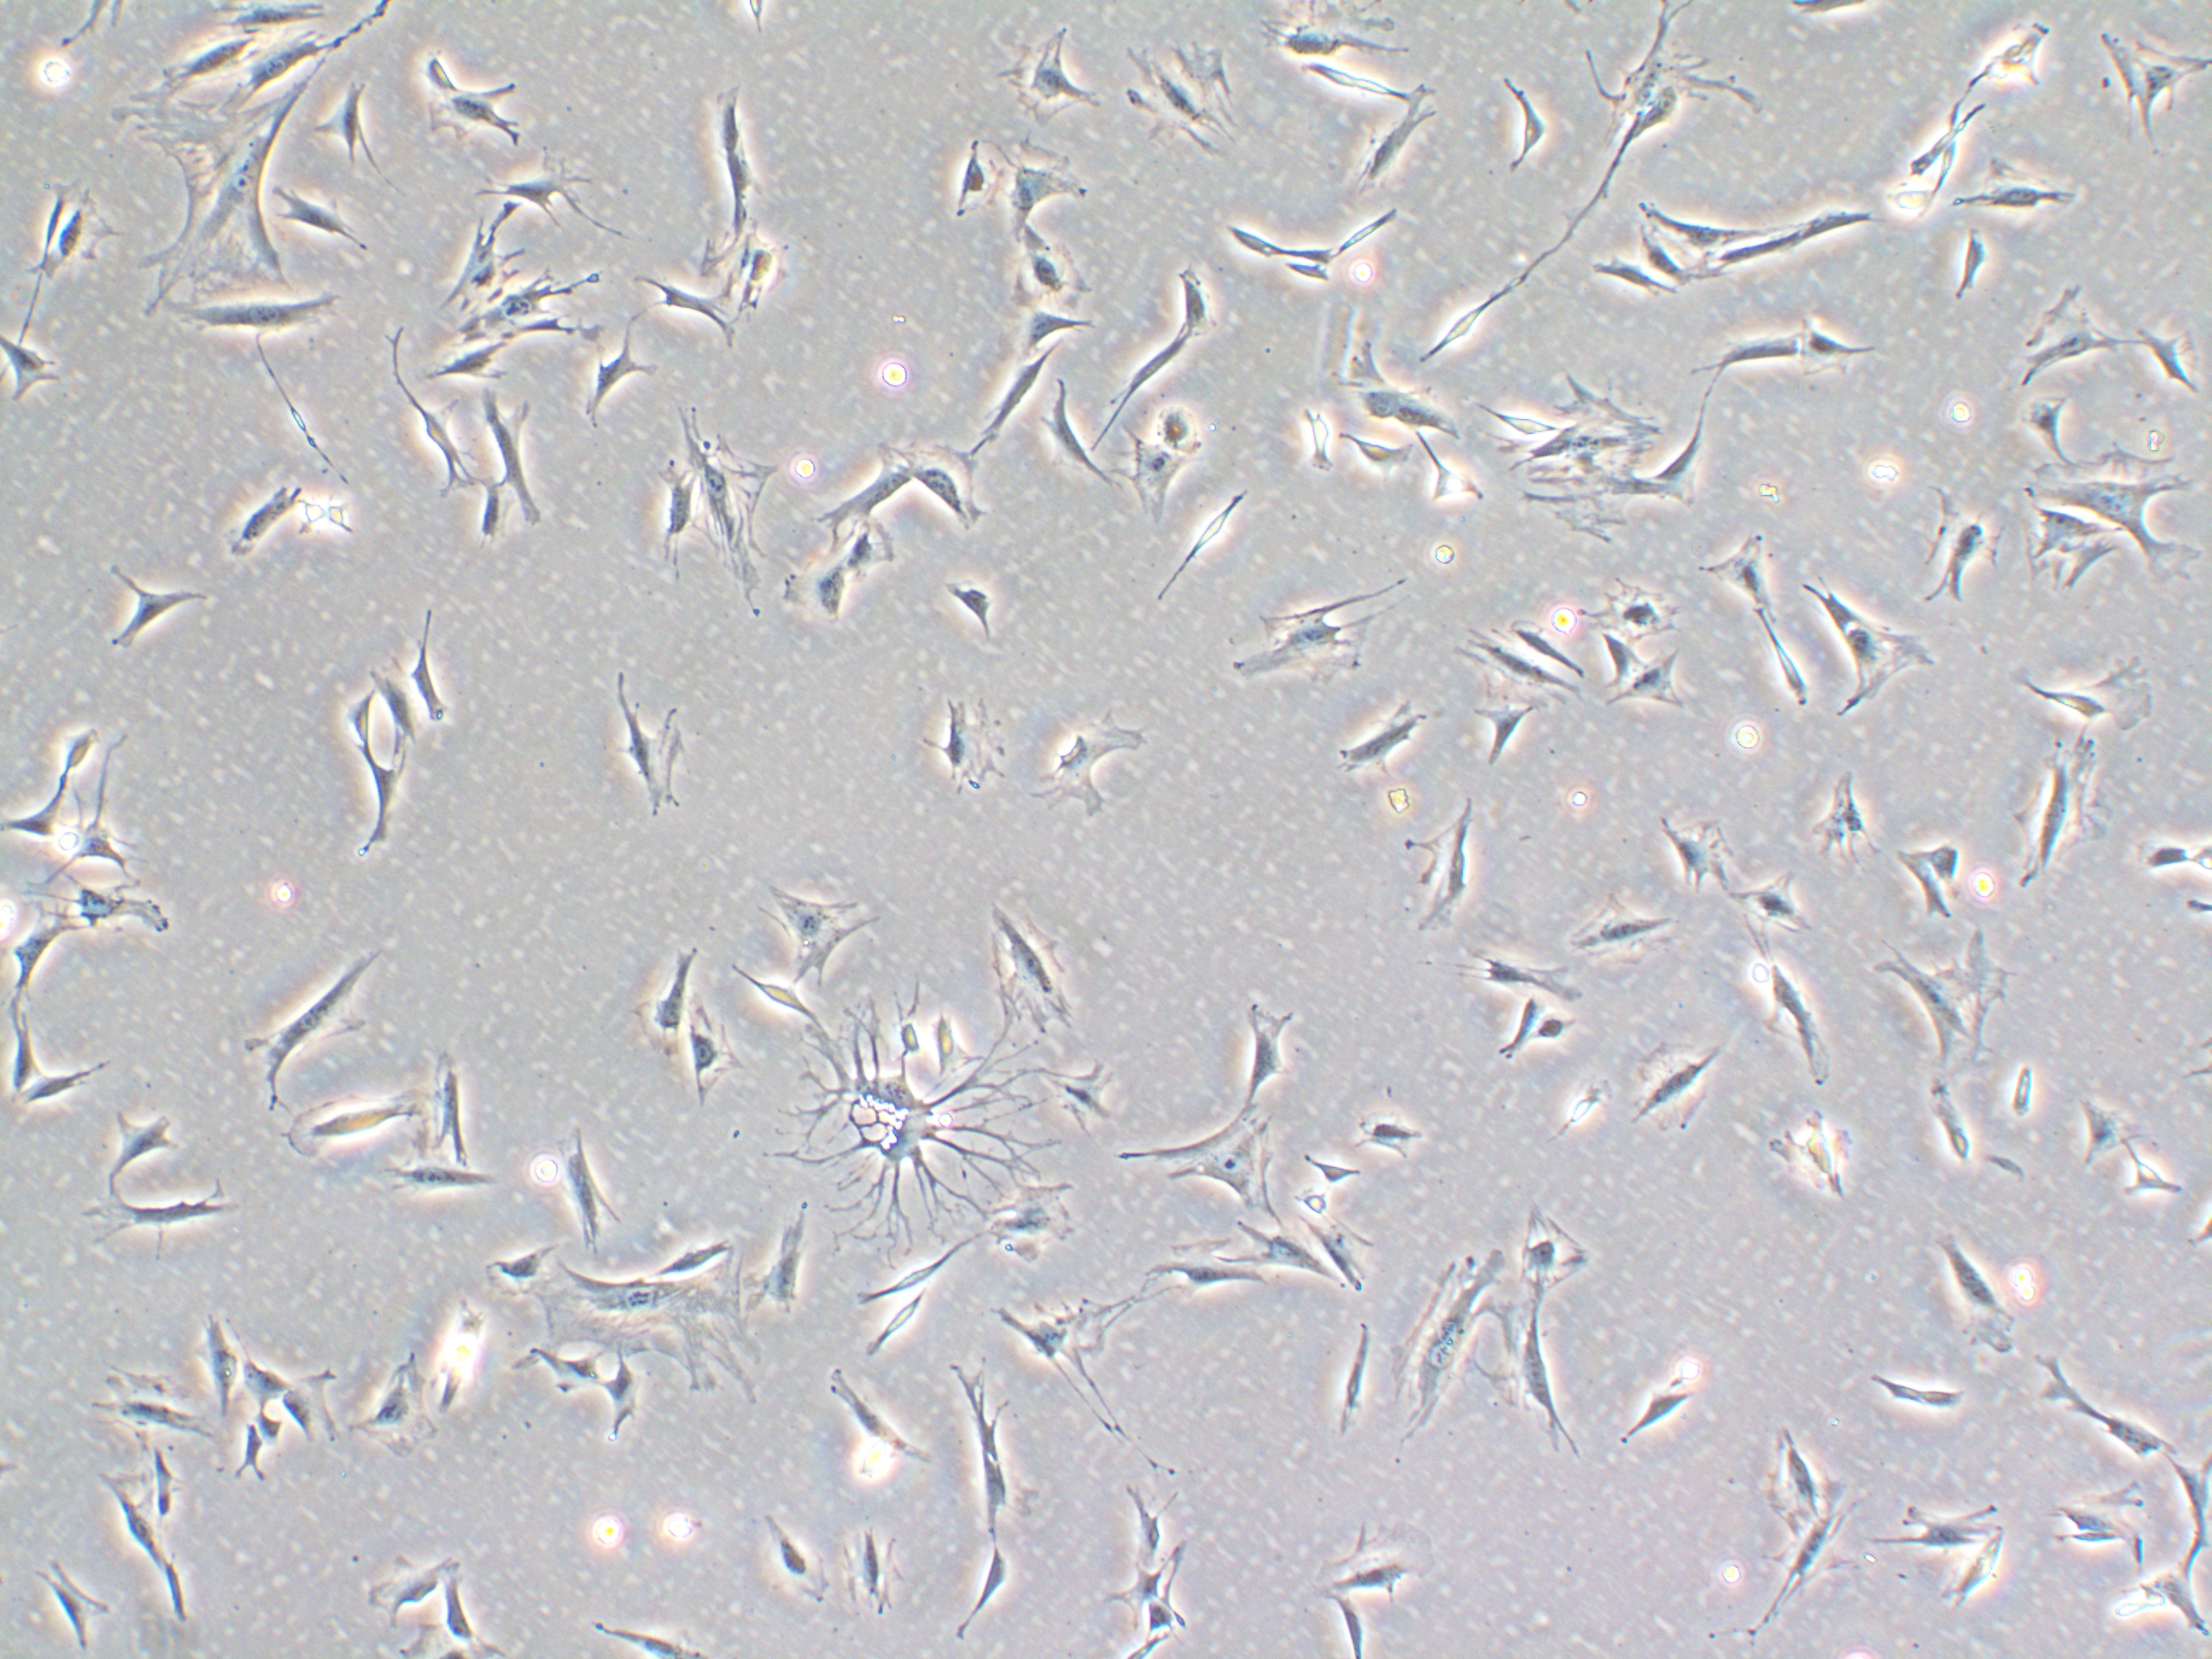Etc: (1134, 479, 1244, 617), (1402, 281, 1524, 375), (1334, 197, 1426, 265), (1468, 390, 1573, 448), (1284, 59, 1404, 101), (1217, 213, 1292, 274)
polygonal: (221, 941, 399, 1115), (1811, 568, 1947, 730), (57, 1333, 226, 1452), (1879, 932, 2012, 1079), (589, 664, 702, 826), (2008, 735, 2123, 892), (1604, 1012, 1743, 1138), (1291, 1513, 1479, 1605), (1923, 1222, 2038, 1370), (1742, 1504, 1858, 1647), (1388, 796, 1484, 965), (2000, 657, 2175, 748), (1092, 317, 1209, 453), (937, 1364, 1031, 1532), (1750, 939, 1853, 1087), (1494, 1305, 1587, 1469), (482, 380, 571, 549), (395, 42, 528, 155), (2090, 17, 2212, 138), (347, 1344, 448, 1488), (96, 554, 218, 662), (1648, 802, 1756, 924), (1343, 338, 1465, 441), (1336, 94, 1449, 204), (691, 71, 766, 237), (1747, 1413, 1848, 1534), (254, 181, 390, 270), (1580, 622, 1703, 718), (897, 429, 996, 547), (625, 267, 758, 355), (420, 1018, 495, 1175), (742, 1509, 841, 1626), (165, 293, 345, 357), (63, 1192, 240, 1256), (12, 1554, 125, 1656), (1451, 622, 1576, 713), (543, 1114, 624, 1255), (92, 1455, 172, 1596), (995, 136, 1090, 253), (963, 343, 1073, 444), (1634, 383, 1710, 528), (631, 934, 704, 1084), (803, 441, 914, 538), (1569, 882, 1676, 983), (2120, 301, 2212, 416), (1944, 155, 2104, 221), (82, 1101, 190, 1197), (2015, 291, 2123, 387), (678, 981, 758, 1110), (2, 1056, 139, 1131), (1862, 1492, 2010, 1560), (948, 558, 1047, 659), (1033, 385, 1115, 507), (1806, 755, 1885, 882), (345, 742, 421, 871), (1240, 997, 1338, 1098), (0, 910, 89, 1019), (1324, 702, 1432, 788), (409, 603, 475, 741), (273, 1375, 359, 1481), (359, 1161, 531, 1213), (1230, 1220, 1343, 1298), (1146, 1225, 1280, 1290), (1463, 945, 1587, 1014), (44, 176, 122, 286), (949, 1525, 1022, 1642), (1644, 195, 1780, 258), (1033, 1046, 1127, 1136), (577, 324, 646, 446), (1615, 1363, 1703, 1457), (1494, 61, 1562, 183), (779, 549, 860, 650), (752, 1180, 808, 1328), (357, 1539, 449, 1628), (0, 322, 85, 418), (1691, 528, 1785, 612), (221, 467, 301, 563), (371, 650, 434, 772), (195, 1305, 254, 1432), (1737, 863, 1811, 960), (303, 85, 378, 183), (2139, 1542, 2210, 1642), (2071, 1087, 2146, 1180), (1799, 188, 1881, 272), (1994, 389, 2074, 474), (1886, 843, 1965, 931), (1587, 249, 1681, 321), (1163, 251, 1238, 340), (1507, 612, 1597, 685), (1620, 218, 1717, 282), (434, 1539, 489, 1650), (1306, 1218, 1376, 1307), (319, 680, 383, 775), (1008, 296, 1120, 350), (2099, 1405, 2186, 1471), (0, 779, 73, 852), (1703, 321, 1799, 376), (1801, 324, 1892, 382), (1308, 1581, 1372, 1659), (1479, 997, 1548, 1065), (1122, 1478, 1174, 1568), (1306, 1143, 1383, 1204), (1345, 1105, 1432, 1157), (235, 1354, 298, 1425), (1470, 701, 1531, 765)
small-round: (1294, 399, 1345, 488), (319, 491, 369, 545), (1292, 1171, 1336, 1225), (289, 488, 326, 533)
spread: (794, 1006, 1059, 1236), (113, 73, 327, 317), (502, 1251, 766, 1420), (1500, 373, 1669, 551), (1216, 558, 1421, 701), (1385, 1213, 1507, 1452), (2029, 443, 2205, 594), (665, 413, 786, 619), (1113, 1086, 1271, 1232), (981, 890, 1101, 1049), (742, 873, 906, 986), (1115, 37, 1247, 164), (984, 16, 1104, 141)
